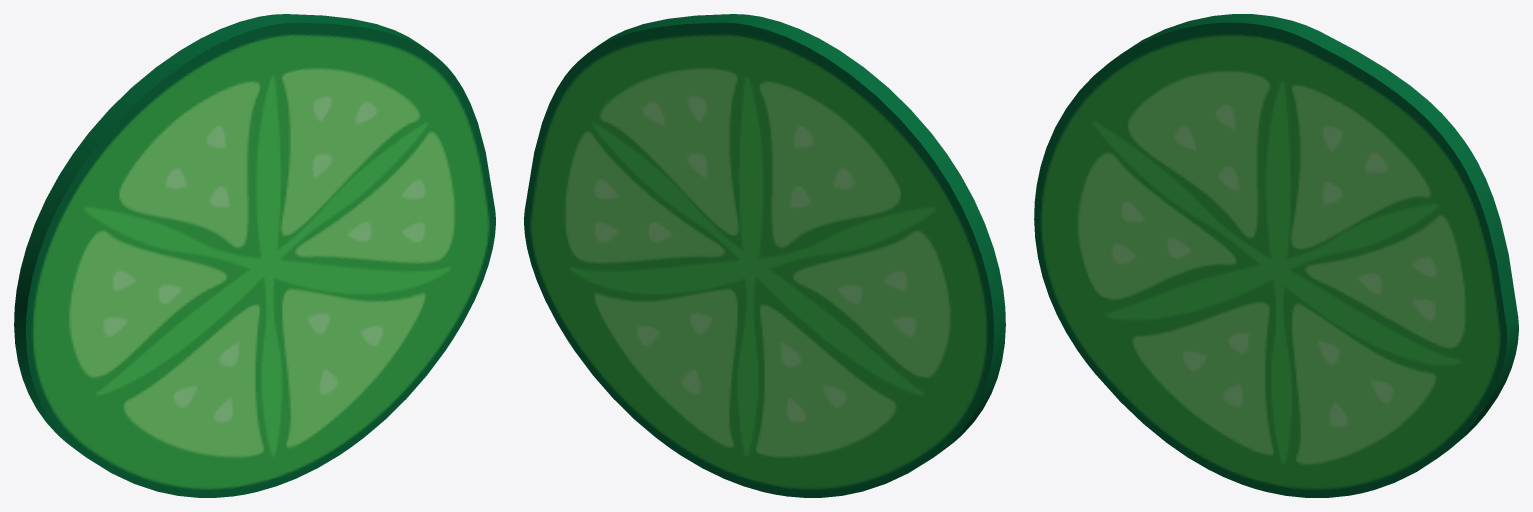
The model's file is cucumber_sliced.fbx.
3 renders of one model, left to right at view 1: azimuth 30°, elevation 25°; view 2: azimuth 150°, elevation 25°; view 3: azimuth 330°, elevation 25°, orthographic.
Parts seen in each view (by area): view 1: cucumber_sliced; view 2: cucumber_sliced; view 3: cucumber_sliced.
Part boxes in pixels (x1,y1,x2,y2): cucumber_sliced: [14, 14, 495, 497]; cucumber_sliced: [524, 14, 1005, 497]; cucumber_sliced: [1034, 14, 1518, 497].
Size of the model in its own units: 8.16 by 7.68 by 0.3528.
Materials: 1 (1 with a texture image).
